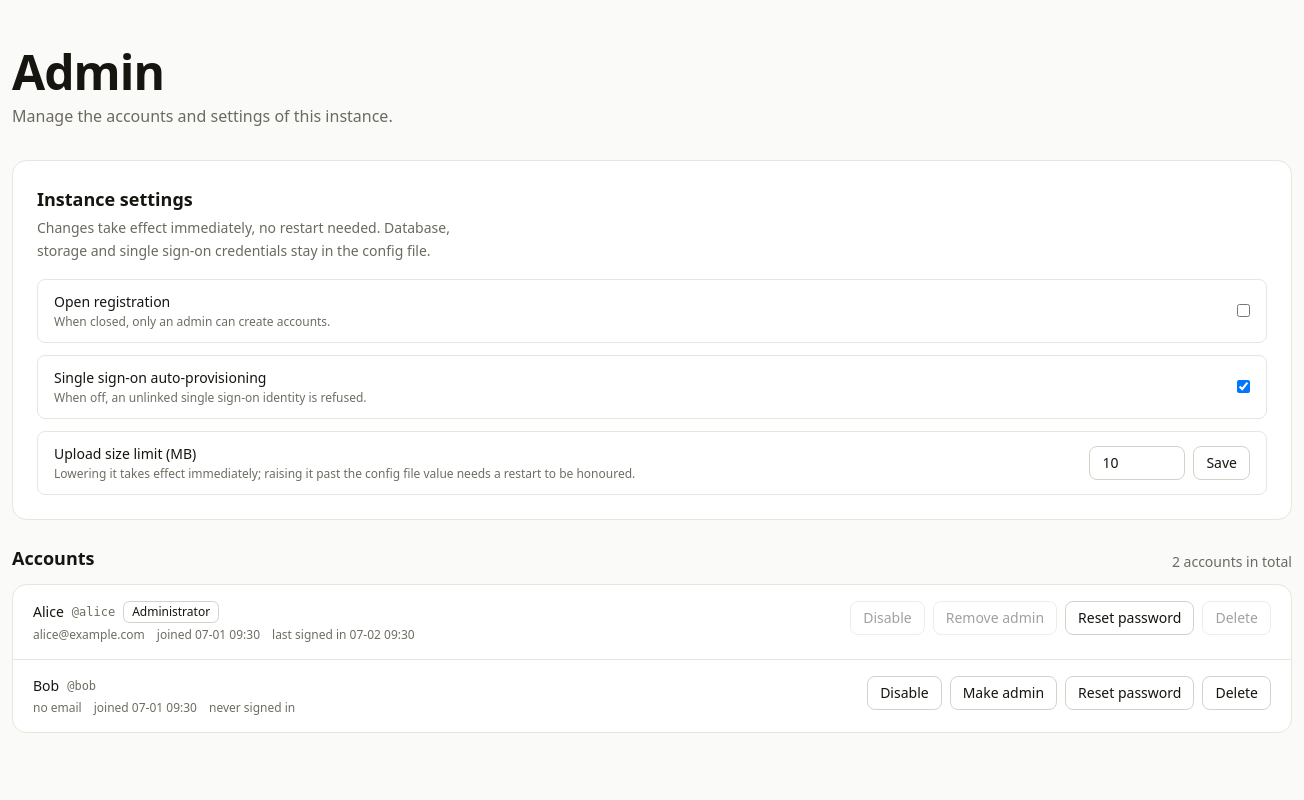
AdminPage › an in-flight action disables the other rows
Expected: the text "@bob" is shown, [67, 678, 96, 694]
Click the button "Delete" in the row of "never signed in" at [1237, 692], box [1202, 676, 1271, 710]
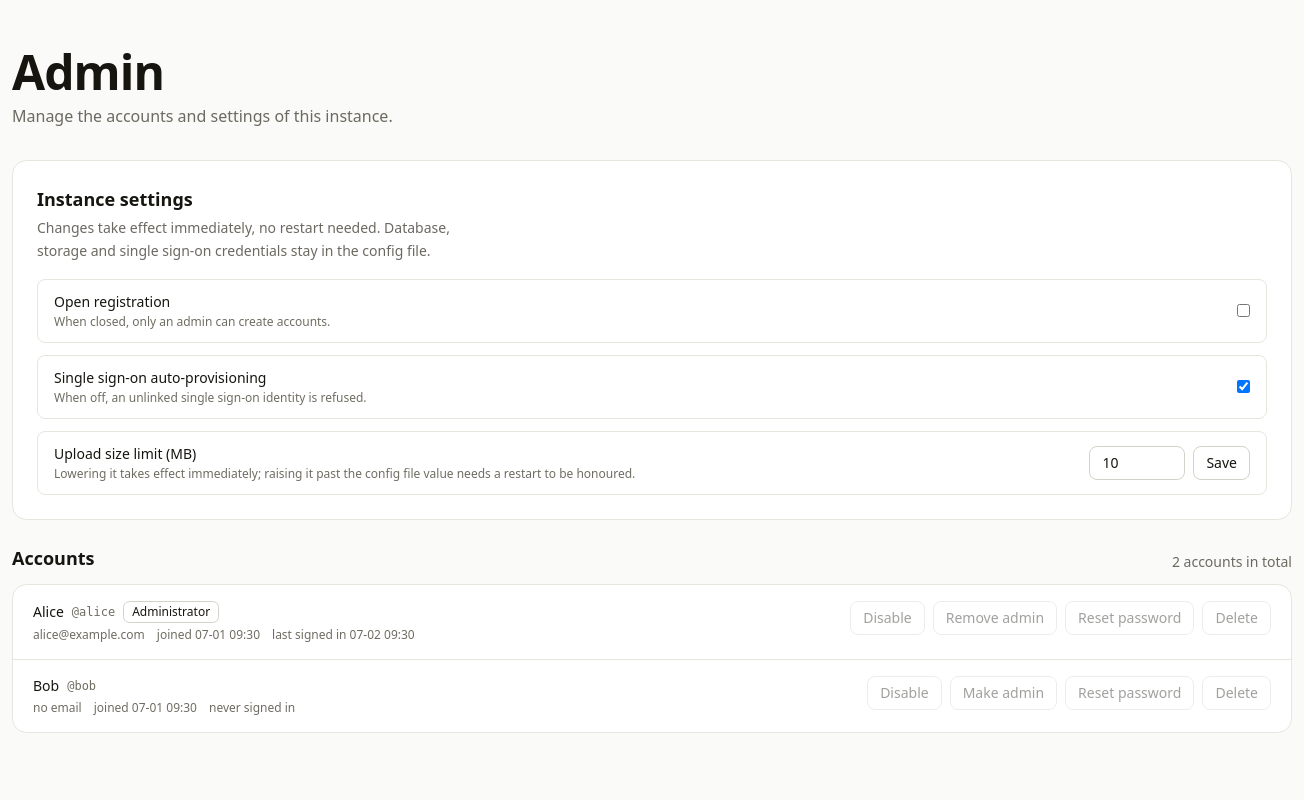
Expected: the button "Reset password" in the row of "never signed in" is disabled, [1065, 676, 1194, 710]
Expected: the button "Reset password" in the row of "last signed in 07-02 09:30" is disabled, [1065, 600, 1194, 634]
